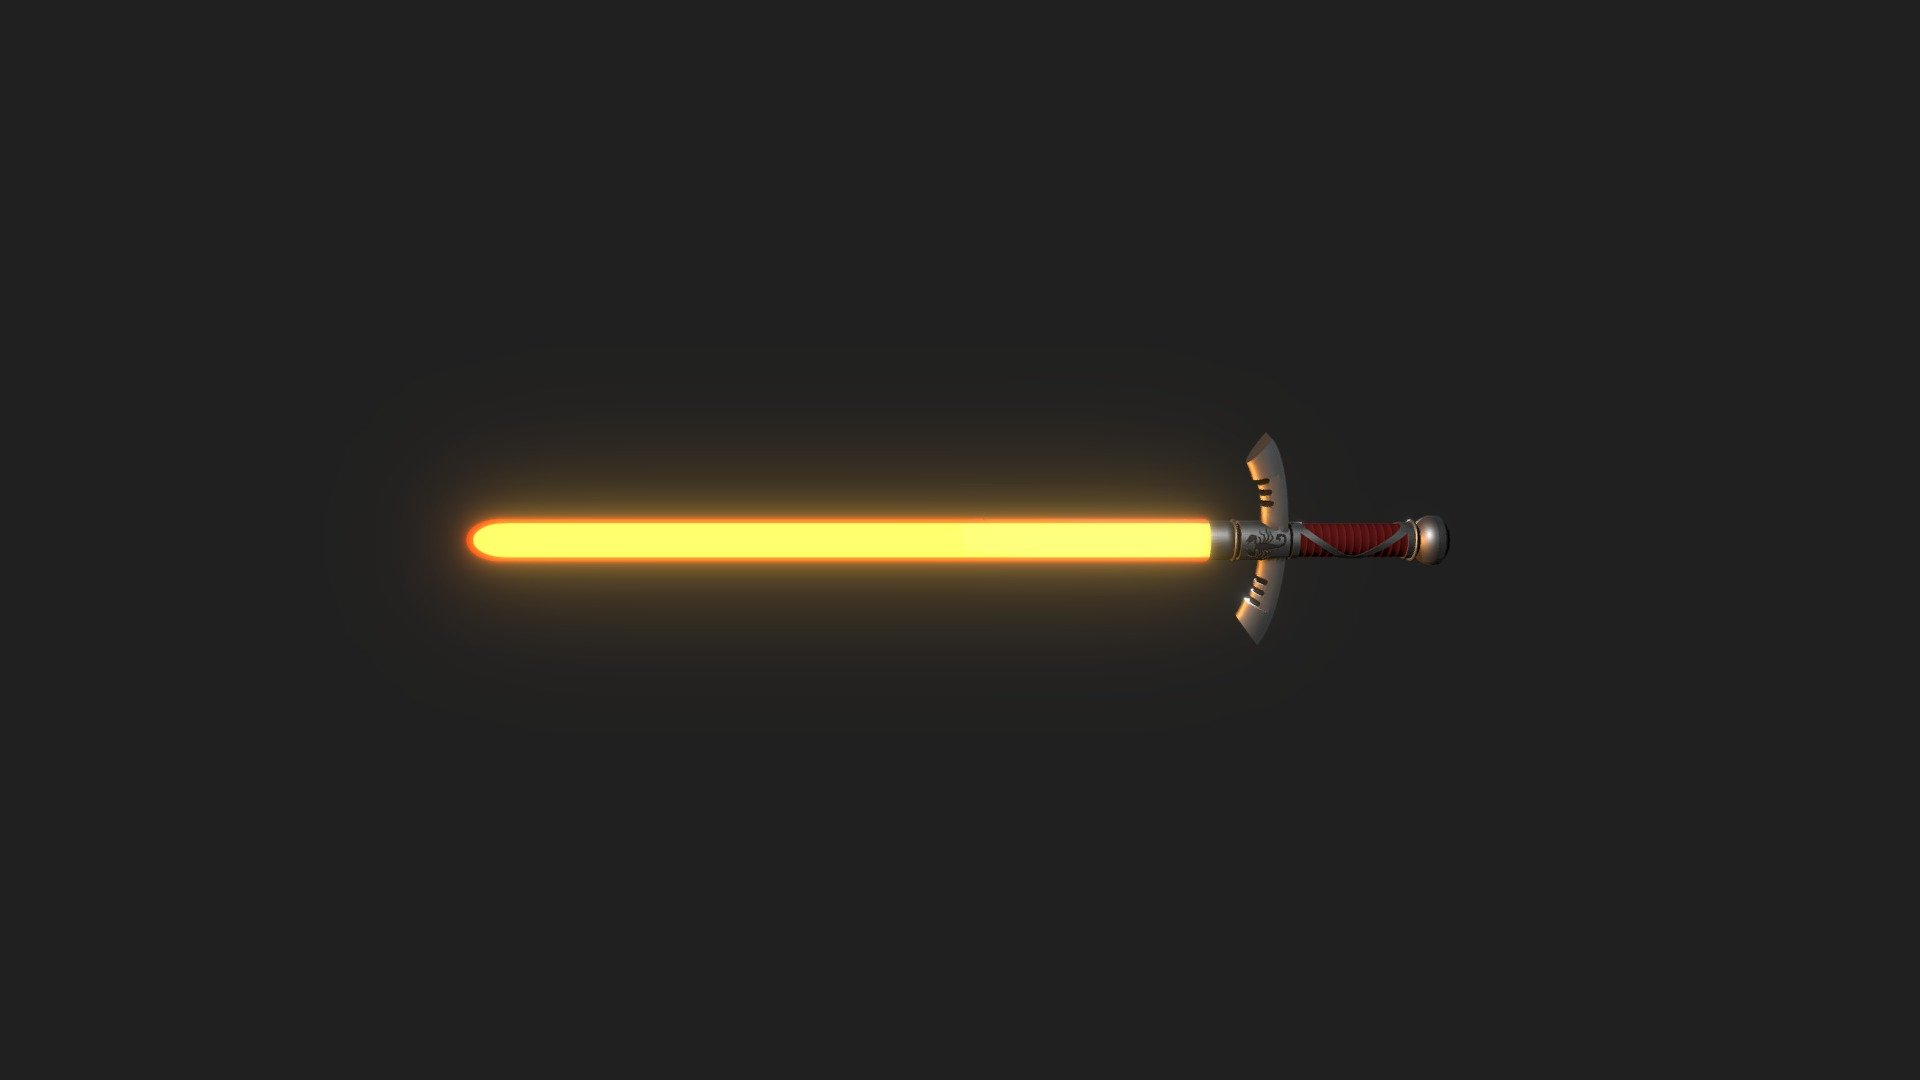lightsaber: (459, 435, 1920, 626)
